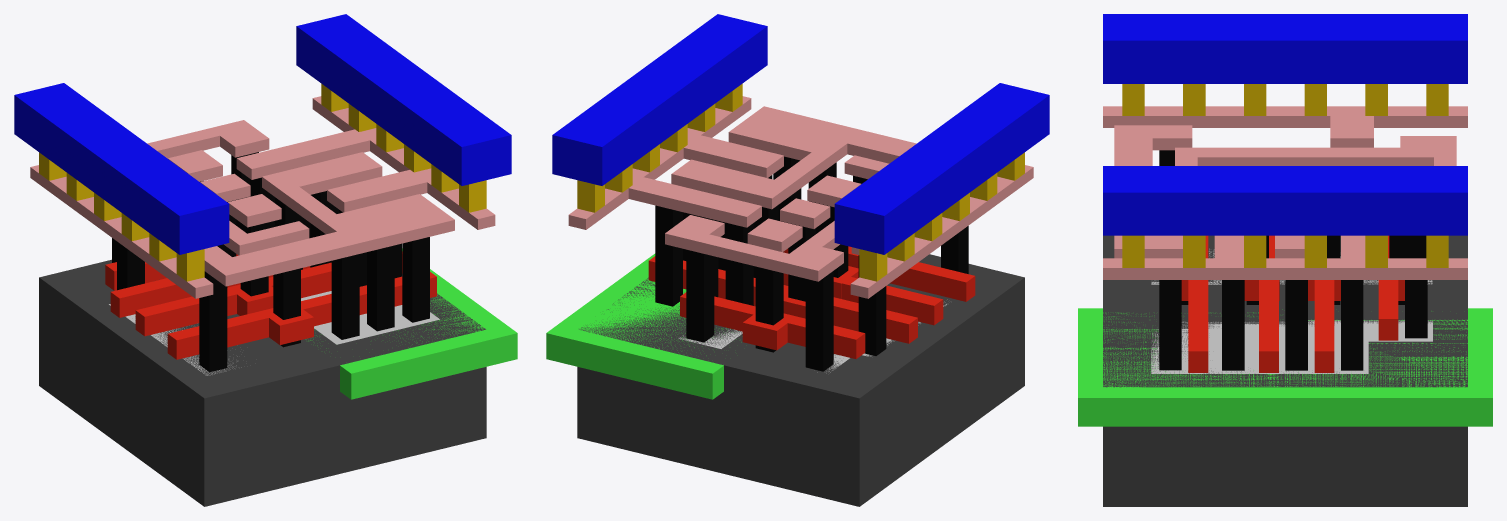
Rendered from sky130_fd_sc_hd__nand3b_1.obj.
3 renders of one model, left to right at view 1: azimuth 30°, elevation 25°; view 2: azimuth 150°, elevation 25°; view 3: azimuth 270°, elevation 25°, orthographic. The views are drawn at different scales.
Parts seen in each view (by area): view 1: subs, metal1, li, licon, poly, nwell, mcon, tap; view 2: subs, metal1, li, licon, nwell, poly, mcon; view 3: metal1, subs, nwell, li, licon, mcon, poly, tap.
Boxes of the visible parts, x1,y1,x2,y2 form: subs: (39,259,486,506); metal1: (14,14,511,254); li: (30,96,495,298); licon: (112,152,429,372); poly: (105,251,436,359); nwell: (305,248,517,399); mcon: (39,83,486,281); tap: (301,291,439,344); subs: (577,254,1024,506); metal1: (552,14,1049,254); li: (568,96,1033,298); licon: (655,156,968,371); nwell: (546,253,741,399); poly: (648,246,975,358); mcon: (577,83,1024,281); metal1: (1103,14,1467,235); subs: (1103,235,1467,506); nwell: (1078,308,1492,426); li: (1103,106,1467,279); licon: (1159,150,1427,370); mcon: (1122,84,1448,267); poly: (1181,235,1404,372); tap: (1151,320,1432,373).
Size of the model in its own units: 3.2 by 2.74 by 3.14.
